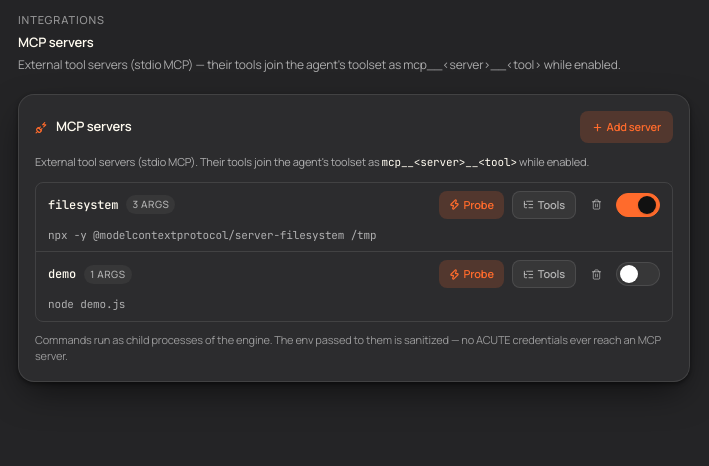
Test case: McpTab (ROUND-61 R61-2-a) › shows the server's error inside the tools panel when listing fails
Expected: the text "filesystem" is shown, [48,196,118,214]
Click the button with aria-label "Show tools for server filesystem": [544, 205] box [512,191,576,219]
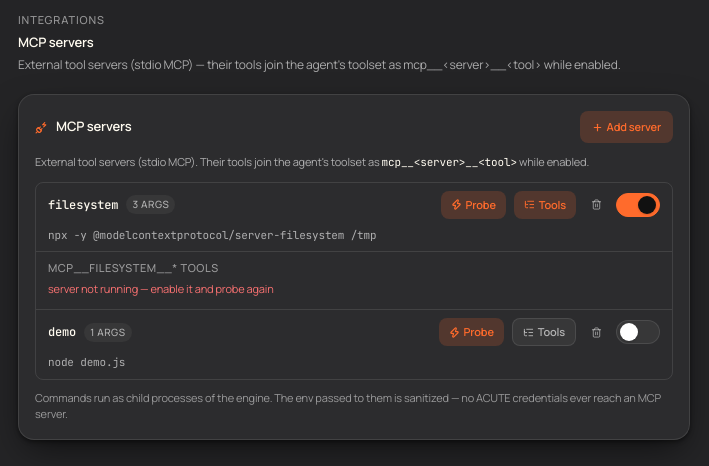
Expected: the text "server not running — enable it and probe again" is shown, [48,281,274,296]
